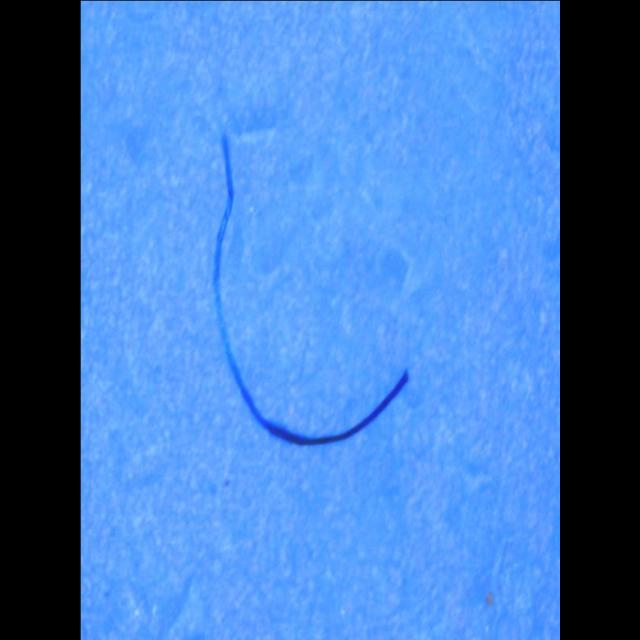Fibre: (211, 128, 409, 446)
